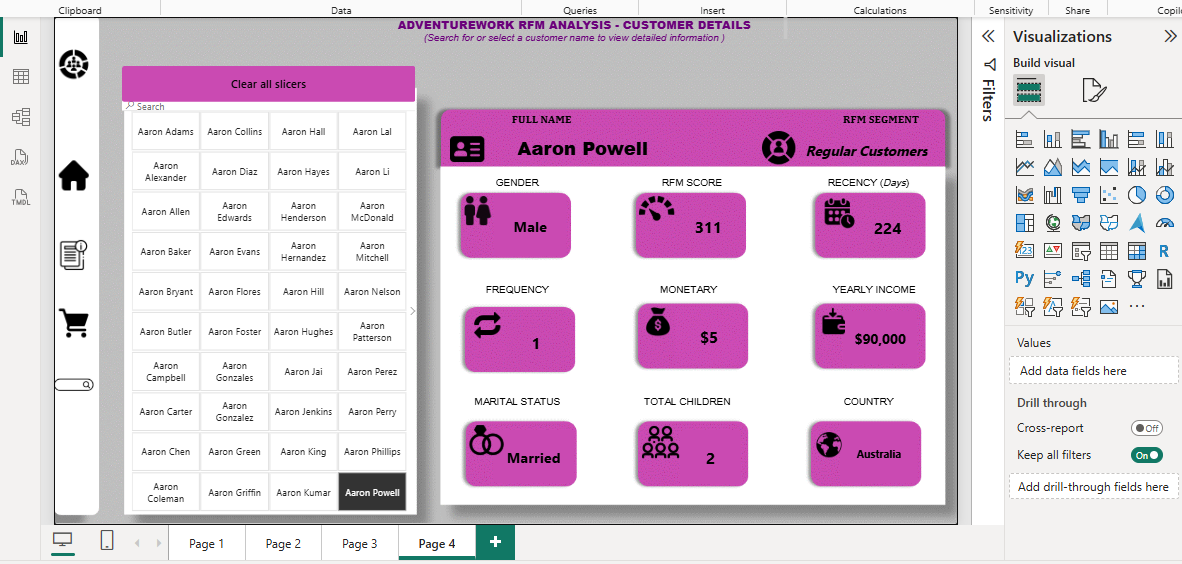

The page's visual inventory and layout, read from the dashboard file:
{"tool":"powerbi","page":{"name":"Page 4","canvas":[1920,1080],"ordinal":3},"visuals":[{"type":"image","box":[0,59.9,84.6,82.6],"z":0},{"type":"image","box":[0,299.4,84.6,74.3],"z":1000},{"type":"image","box":[0,472.8,84.6,68.1],"z":2000},{"type":"image","box":[0,740.1,83.7,83.7],"z":3000},{"type":"slicer","fields":{"Values":["DimCustomer.Full Name"]},"box":[144.5,179.6,623.5,873.3],"z":4000},{"type":"actionButton","box":[144.5,103.2,623.5,76.4],"z":5000},{"type":"textbox","box":[660.6,0,898.1,59.9],"z":6000},{"type":"cardVisual","fields":{"Data":["Min(DimCustomer.Full Name)"]},"box":[918.2,242.4,411.9,70.8],"z":7000},{"type":"cardVisual","fields":{"Data":["Min(DimCustomer.RFM Segment)"]},"box":[1568.2,246.7,317.5,70.8],"z":8000},{"type":"cardVisual","fields":{"Data":["Min(DimCustomer.RFM Score)"]},"box":[1319.3,381.9,141.6,124.4],"z":9000},{"type":"cardVisual","fields":{"Data":["Sum(DimCustomer.Recency)"]},"box":[1709.8,381.9,126.6,126.6],"z":10000},{"type":"cardVisual","fields":{"Data":["Sum(DimCustomer.Frequency)"]},"box":[961.1,626.4,128.7,126.6],"z":11000},{"type":"cardVisual","fields":{"Data":["Sum(DimCustomer.Monetary)"]},"box":[1319.3,615.7,145.9,124.4],"z":12000},{"type":"textbox","box":[900.1,202.3,270.5,41.3],"z":13000},{"type":"textbox","box":[1678.5,202.3,208.5,41.3],"z":14000},{"type":"textbox","box":[1244.9,336.5,220.9,37.2],"z":15000},{"type":"textbox","box":[1626.8,336.5,210.6,37.2],"z":16000},{"type":"textbox","box":[858.8,562.6,251.9,33],"z":17000},{"type":"textbox","box":[1244.9,563.6,206.5,31],"z":18000},{"type":"cardVisual","fields":{"Data":["Min(DimCustomer.Gender)"]},"box":[935.3,375.4,154.5,133],"z":19000},{"type":"textbox","box":[933.2,336.8,103,36.5],"z":20000},{"type":"cardVisual","fields":{"Data":["Sum(DimCustomer.YearlyIncome)"]},"box":[1677.6,624.3,158.7,113.7],"z":21000},{"type":"textbox","box":[1626.8,563.6,235.4,31],"z":22000},{"type":"cardVisual","fields":{"Data":["Min(DimCustomer.MaritalStatus)"]},"box":[933.2,877.4,173.8,113.7],"z":23000},{"type":"textbox","box":[858.8,801,251.9,47.5],"z":24000},{"type":"cardVisual","fields":{"Data":["Sum(DimCustomer.TotalChildren)"]},"box":[1330.1,877.4,130.9,115.8],"z":25000},{"type":"cardVisual","fields":{"Data":["Min(DimGeography.EnglishCountryRegionName)"]},"box":[1671.2,862.4,165.2,128.7],"z":26000},{"type":"textbox","box":[1226.3,801,239.5,47.5],"z":27000},{"type":"textbox","box":[1626.8,801,210.6,47.5],"z":28000},{"type":"image","box":[825.9,244.6,107.3,72.9],"z":29000},{"type":"image","box":[1488.8,242.4,105.1,70.8],"z":30000},{"type":"image","box":[858.1,379.7,83.7,62.2],"z":31000},{"type":"image","box":[1244.2,360.4,75.1,90.1],"z":32000},{"type":"image","box":[1615.4,381.9,109.4,68.6],"z":33000},{"type":"image","box":[879.6,626.4,81.5,55.8],"z":34000},{"type":"image","box":[1250.7,615.7,68.6,62.2],"z":35000},{"type":"image","box":[1615.4,613.5,83.7,64.4],"z":36000},{"type":"image","box":[879.6,862.4,79.4,72.9],"z":37000},{"type":"image","box":[1250.7,862.4,79.4,81.5],"z":38000},{"type":"image","box":[1615.4,881.7,64.4,53.6],"z":39000},{"type":"image","box":[0,613.5,83.7,70.8],"z":40000}]}

Visuals, with their boxes on the page's 1920x1080 design canvas (x1, y1, x2, y2). These are canvas units, not pixel positions in the 1182x564 screenshot, which may show the page scaled, cropped or inside an application window:
image: 0, 60, 85, 142
image: 0, 299, 85, 374
image: 0, 473, 85, 541
image: 0, 740, 84, 824
slicer - DimCustomer.Full Name: 144, 180, 768, 1053
actionButton: 144, 103, 768, 180
textbox: 661, 0, 1559, 60
cardVisual - Min(DimCustomer.Full Name): 918, 242, 1330, 313
cardVisual - Min(DimCustomer.RFM Segment): 1568, 247, 1886, 318
cardVisual - Min(DimCustomer.RFM Score): 1319, 382, 1461, 506
cardVisual - Sum(DimCustomer.Recency): 1710, 382, 1836, 508
cardVisual - Sum(DimCustomer.Frequency): 961, 626, 1090, 753
cardVisual - Sum(DimCustomer.Monetary): 1319, 616, 1465, 740
textbox: 900, 202, 1171, 244
textbox: 1678, 202, 1887, 244
textbox: 1245, 336, 1466, 374
textbox: 1627, 336, 1837, 374
textbox: 859, 563, 1111, 596
textbox: 1245, 564, 1451, 595
cardVisual - Min(DimCustomer.Gender): 935, 375, 1090, 508
textbox: 933, 337, 1036, 373
cardVisual - Sum(DimCustomer.YearlyIncome): 1678, 624, 1836, 738
textbox: 1627, 564, 1862, 595
cardVisual - Min(DimCustomer.MaritalStatus): 933, 877, 1107, 991
textbox: 859, 801, 1111, 848
cardVisual - Sum(DimCustomer.TotalChildren): 1330, 877, 1461, 993
cardVisual - Min(DimGeography.EnglishCountryRegionName): 1671, 862, 1836, 991
textbox: 1226, 801, 1466, 848
textbox: 1627, 801, 1837, 848
image: 826, 245, 933, 318
image: 1489, 242, 1594, 313
image: 858, 380, 942, 442
image: 1244, 360, 1319, 450
image: 1615, 382, 1725, 450
image: 880, 626, 961, 682
image: 1251, 616, 1319, 678
image: 1615, 614, 1699, 678
image: 880, 862, 959, 935
image: 1251, 862, 1330, 944
image: 1615, 882, 1680, 935
image: 0, 614, 84, 684
